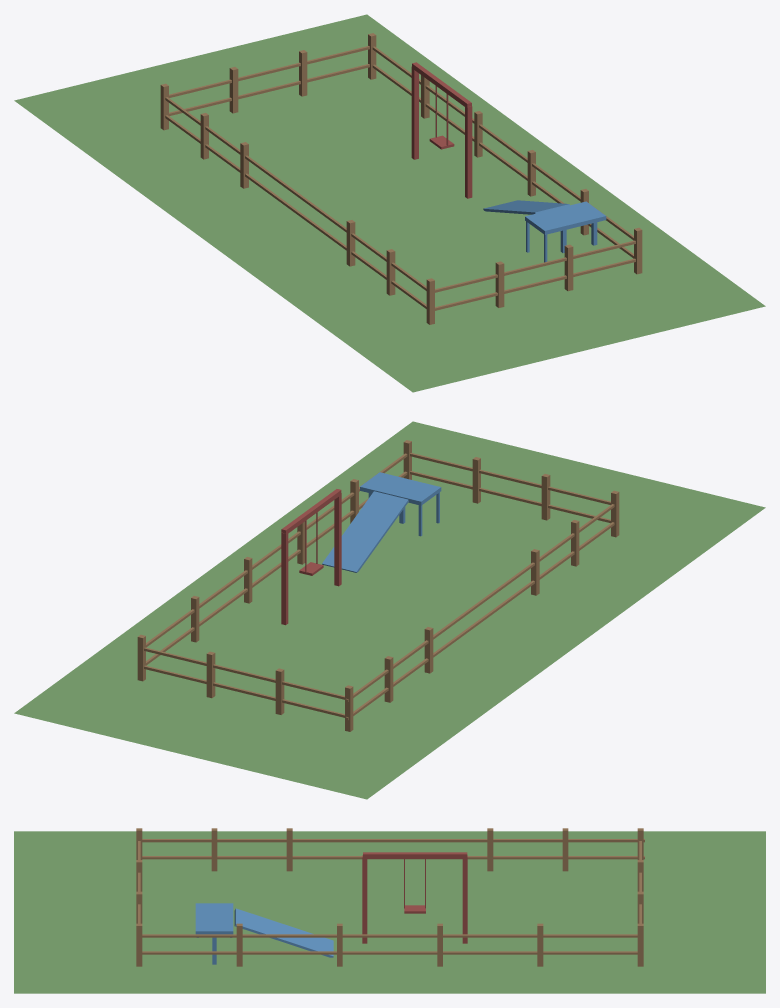
The model's file is PlayPark.glb.
3 renders of one model, top to bottom at view 1: azimuth 30°, elevation 25°; view 2: azimuth 150°, elevation 25°; view 3: azimuth 270°, elevation 25°, orthographic. The views are drawn at different scales.
Parts seen in each view (by area): view 1: PlayGround, Slide0, FenceRail5, FenceRail4, FenceRail3, FenceRail1, FenceRail0, Slide3, FenceRail2, Swing1, Swing0, FenceRail9 (+3 smaller); view 2: PlayGround, Slide3, Slide0, FenceRail5, FenceRail4, FenceRail1, FenceRail3, FenceRail2, FenceRail0, Swing0, FenceRail9, Swing1 (+1 smaller); view 3: PlayGround, FenceRail4, FenceRail5, Slide3, Slide0, FenceRail9, FenceRail7, FenceRail6, Swing2, FenceRail8, Swing0, Swing1 (+8 smaller).
Part boxes in pixels (x1,y1,x2,y2): PlayGround: [14, 14, 765, 392]; Slide0: [525, 201, 606, 234]; FenceRail5: [372, 46, 633, 240]; FenceRail4: [372, 64, 633, 258]; FenceRail3: [169, 46, 369, 97]; FenceRail1: [435, 240, 635, 292]; FenceRail0: [435, 258, 635, 310]; Slide3: [483, 200, 569, 214]; FenceRail2: [169, 64, 369, 116]; Swing1: [465, 105, 472, 198]; Swing0: [411, 66, 418, 159]; FenceRail9: [165, 97, 313, 204]; PlayGround: [14, 421, 765, 799]; Slide3: [322, 491, 408, 572]; Slide0: [360, 472, 441, 505]; FenceRail5: [146, 453, 407, 647]; FenceRail4: [146, 471, 407, 665]; FenceRail1: [410, 453, 610, 504]; FenceRail3: [144, 647, 344, 699]; FenceRail2: [144, 665, 344, 717]; FenceRail0: [410, 471, 610, 523]; Swing0: [281, 532, 288, 625]; FenceRail9: [345, 589, 498, 701]; Swing1: [334, 493, 341, 586]; PlayGround: [14, 831, 765, 993]; FenceRail4: [142, 951, 637, 954]; FenceRail5: [142, 934, 637, 937]; Slide3: [234, 908, 333, 957]; Slide0: [195, 903, 233, 934]; FenceRail9: [361, 839, 644, 842]; FenceRail7: [142, 839, 389, 842]; FenceRail6: [142, 856, 389, 859]; Swing2: [363, 852, 467, 858]; FenceRail8: [361, 856, 644, 859]; Swing0: [462, 855, 467, 943]; Swing1: [362, 855, 367, 943].
Size of the model in its own units: 9.2 by 2.39 by 18.
